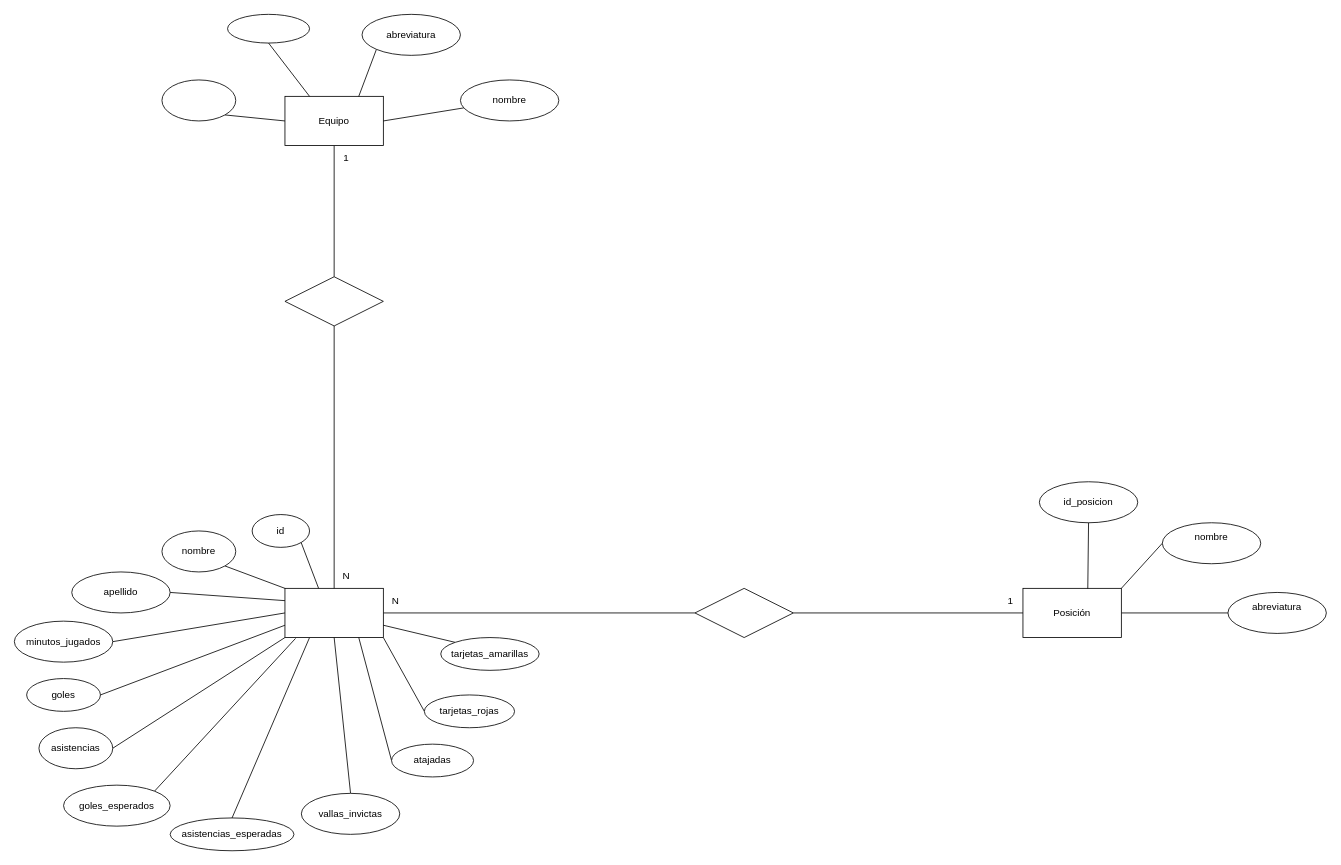
Some shapes in this 1341 by 865 pixel diagram are drawn without their labels. The box of each missing label's shape, as (x1, y1, x2, y2) in pixels:
codigo: (161, 79, 236, 121)
id_equipo: (227, 14, 310, 43)
juega en: (694, 588, 793, 638)
jugador: (284, 588, 383, 638)
tiene: (284, 276, 383, 326)
